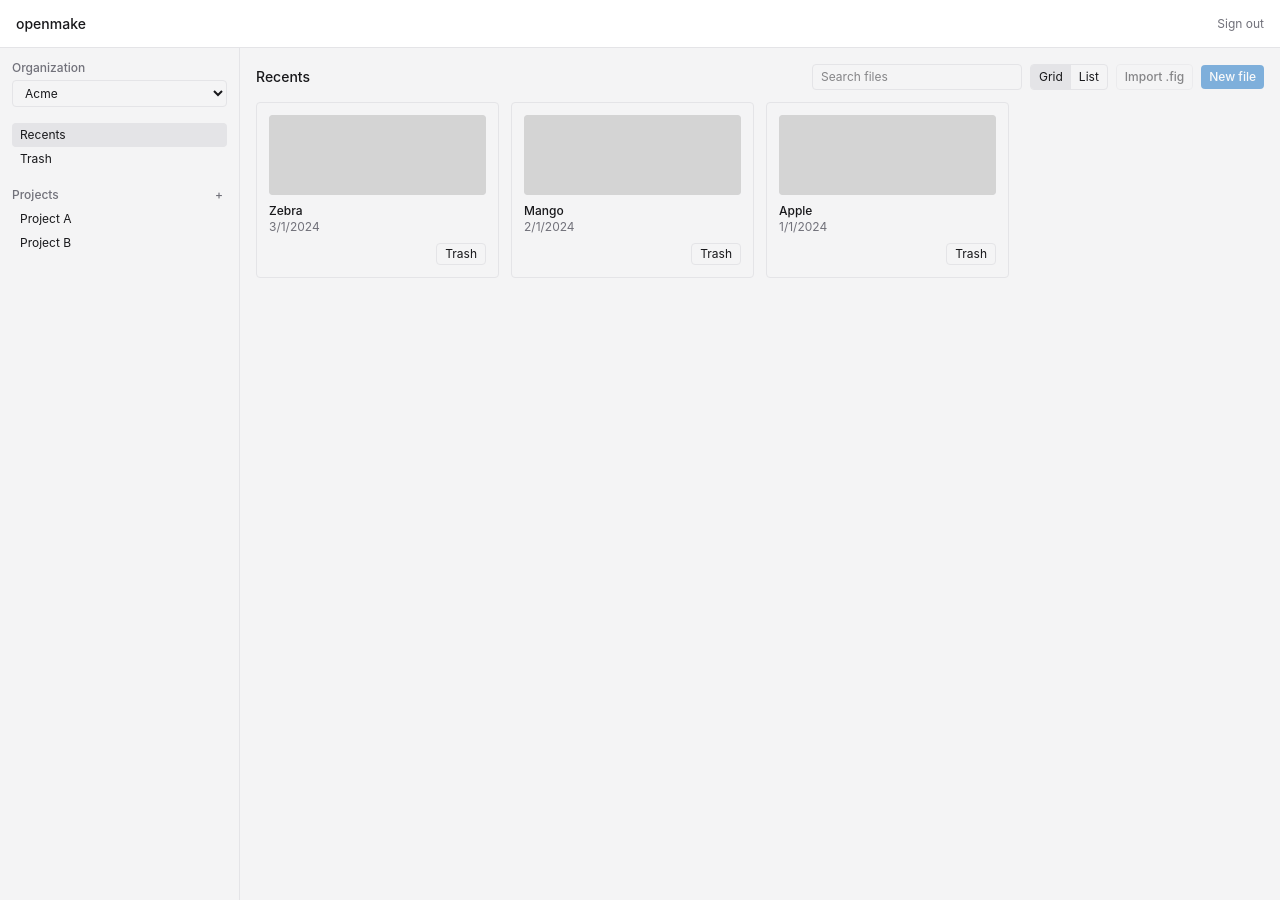
Scenario: DashboardPage › filters the file list by search query (client-side)
This screenshot has width=1280, height=900.
Expected: the element with test id "file-a1" is shown, [256, 102, 499, 278]
Type "man" into the search field with test id "file-search" at (917, 77), box [812, 64, 1022, 90]
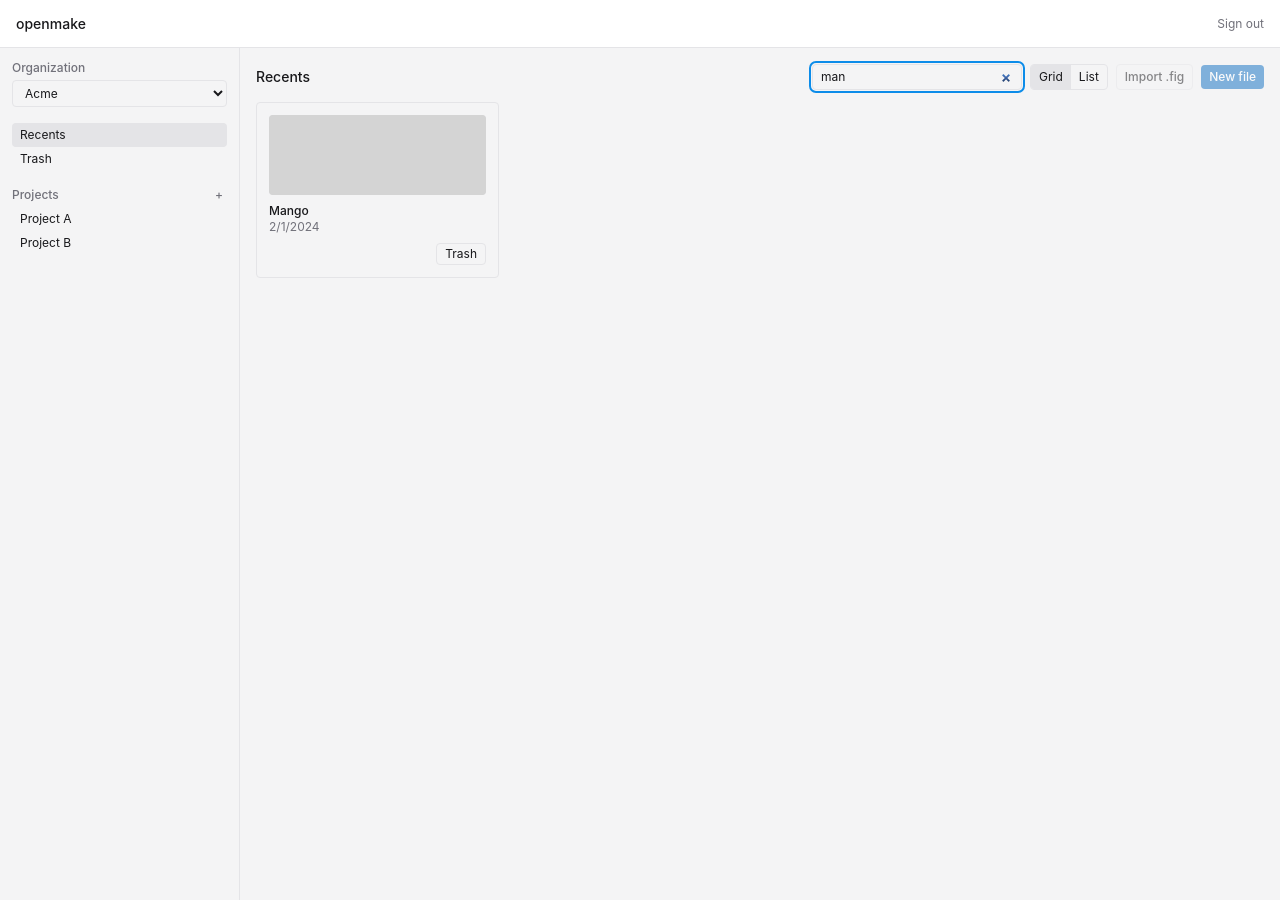
Expected: the element with test id "file-b1" is shown, [256, 102, 499, 278]
Expected: the element with test id "file-a1" is gone
